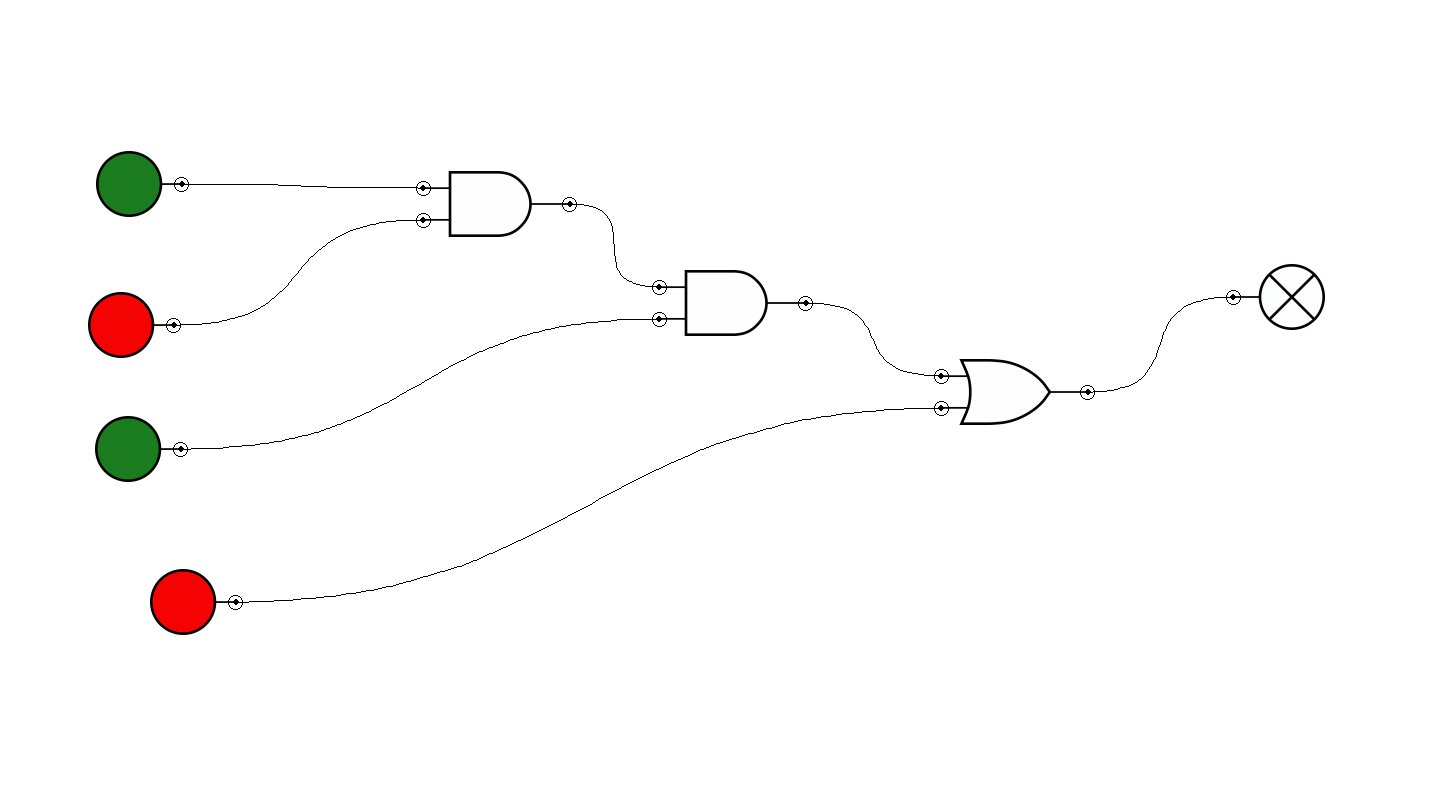and: (652, 270, 813, 336), (416, 171, 577, 237)
bulb: (1226, 264, 1325, 330)
or: (934, 359, 1095, 425)
switch_False: (88, 292, 181, 358), (150, 569, 243, 635)
switch_True: (95, 416, 188, 482), (96, 151, 189, 217)
